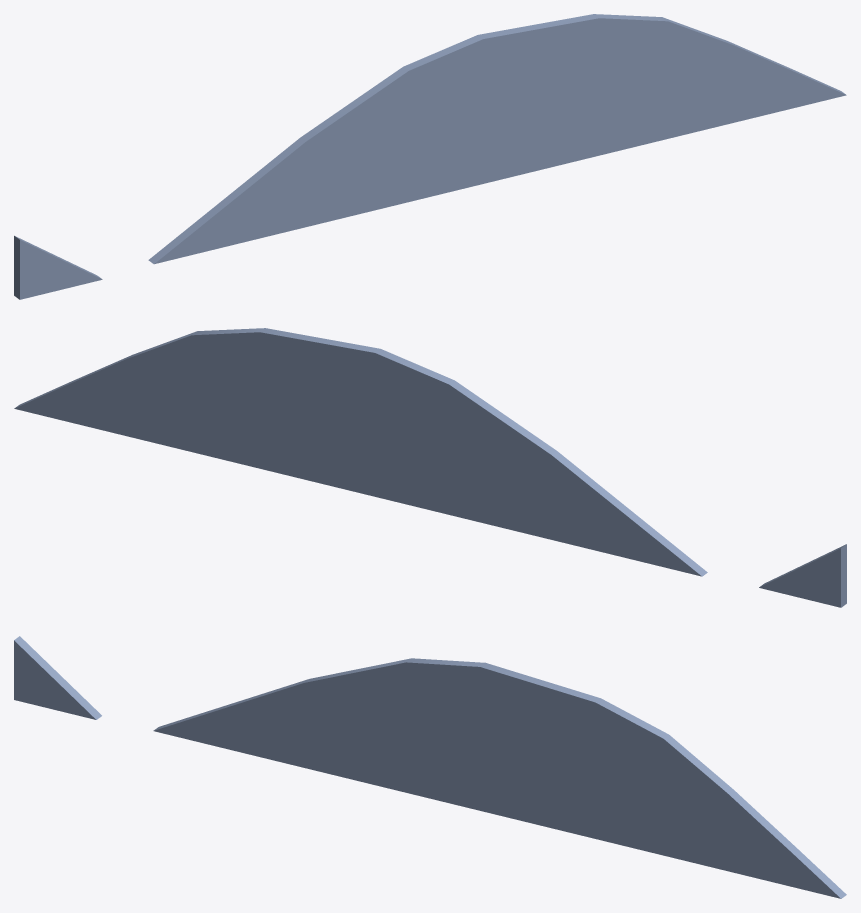
File: frame_0088.glb
3 views of the same model, one above another, from view 1: azimuth 30°, elevation 25°; view 2: azimuth 150°, elevation 25°; view 3: azimuth 330°, elevation 25° (orthographic).
Visible parts, largest first — view 1: export_trees_001.002; view 2: export_trees_001.002; view 3: export_trees_001.002.
Boxes of the visible parts, box(x1,y1,x2,y2) form: export_trees_001.002: box(14, 14, 846, 299); export_trees_001.002: box(14, 328, 846, 607); export_trees_001.002: box(14, 636, 846, 898).
Size of the model in its own units: 0.3491 by 0.0582 by 0.00629.
